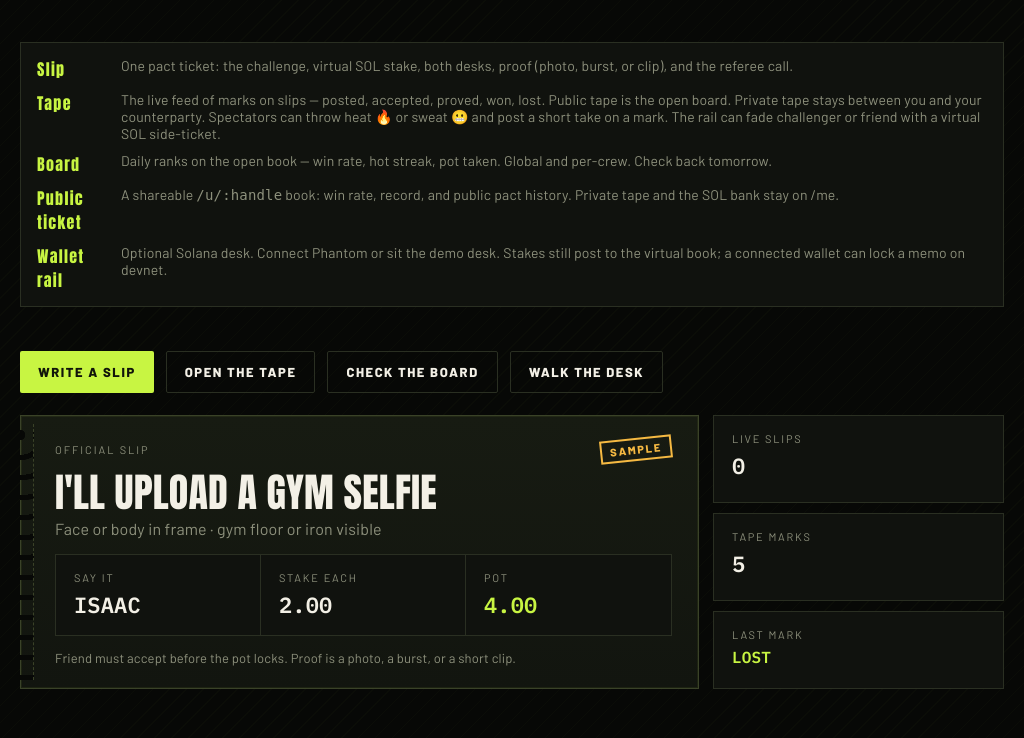
Test: first-visit desk walk › does not replay after skip, and Walk the desk starts it again
This screenshot has width=1024, height=738.
(page scrolled)
Click the button "Walk the desk".
click(586, 372)  # box [510,351,663,393]
(page scrolled)
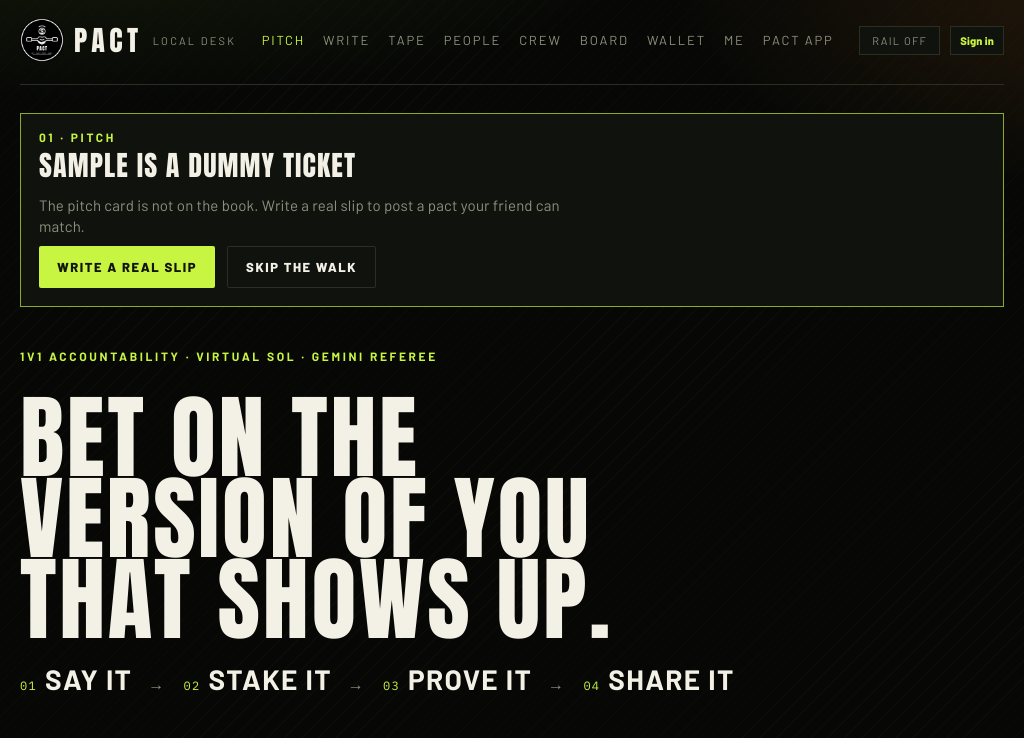
Expected: the heading "SAMPLE is a dummy ticket" is shown, [39,144,356,186]
